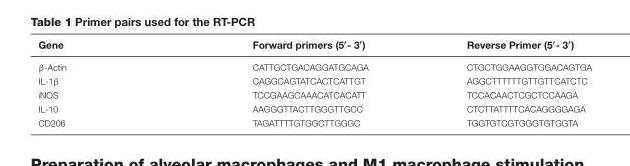table: (37, 37, 591, 127)
table column: (158, 37, 416, 127), (416, 37, 591, 127), (37, 37, 158, 127)
table column header: (37, 37, 591, 56)
table row: (37, 37, 591, 56), (37, 56, 591, 73), (37, 73, 591, 87), (37, 87, 591, 101), (37, 101, 591, 115), (37, 115, 591, 127)
